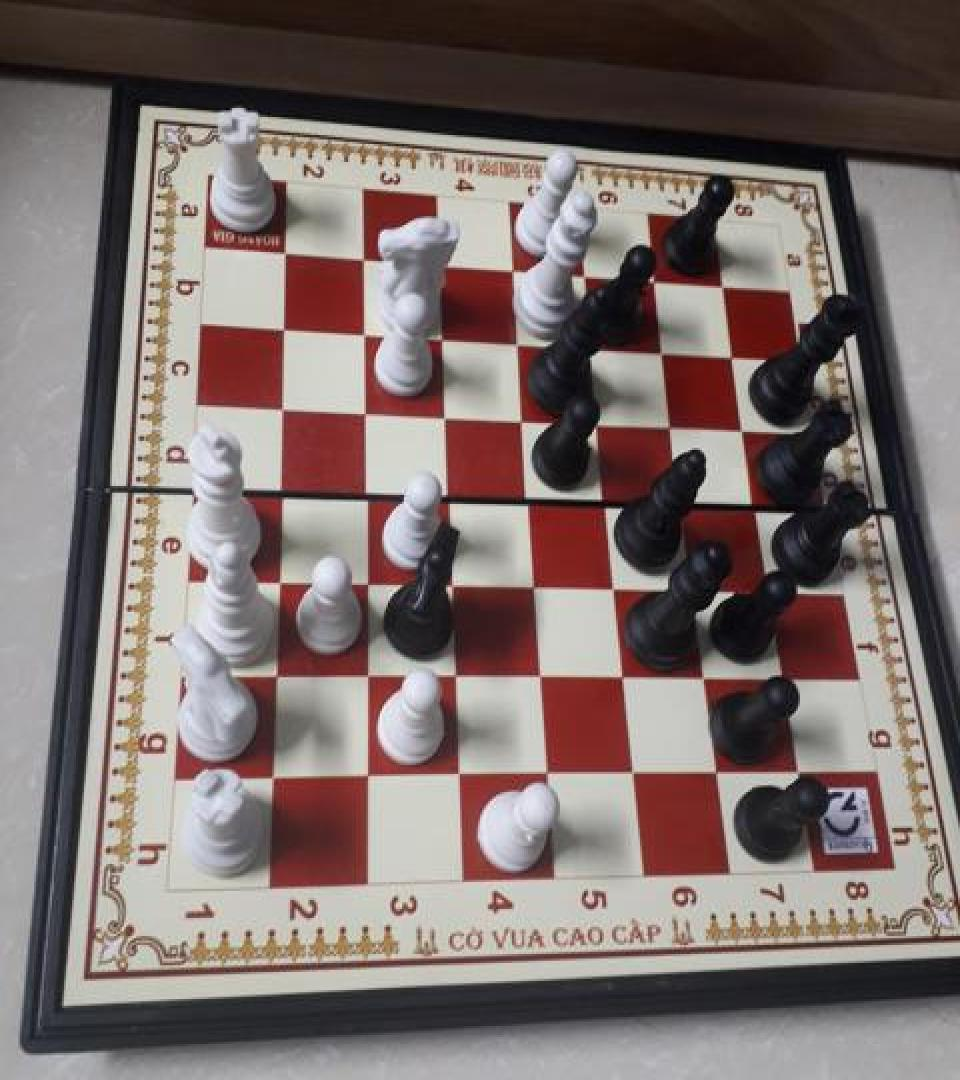xcorner: (709, 271, 739, 305), (640, 266, 670, 300), (569, 260, 599, 294), (497, 254, 527, 288), (422, 248, 452, 282), (346, 242, 376, 276), (267, 235, 297, 269), (719, 341, 749, 375), (649, 336, 679, 370), (576, 332, 606, 366), (502, 326, 532, 360), (425, 320, 455, 354), (346, 316, 376, 350), (730, 415, 760, 449), (658, 410, 688, 444), (583, 407, 613, 441), (428, 398, 458, 432), (347, 394, 377, 428), (264, 389, 294, 423), (668, 489, 698, 523), (591, 487, 621, 521), (513, 484, 543, 518), (432, 480, 462, 514), (348, 477, 378, 511), (262, 474, 292, 508), (754, 575, 784, 609), (678, 572, 708, 606), (599, 572, 629, 606), (518, 569, 548, 603), (435, 567, 465, 601), (261, 562, 291, 596), (767, 662, 797, 696), (689, 662, 719, 696), (608, 662, 638, 696), (525, 660, 555, 694), (439, 659, 469, 693), (350, 659, 380, 693), (259, 658, 289, 692), (781, 755, 811, 789), (701, 756, 731, 790), (617, 756, 647, 790), (532, 757, 562, 791), (443, 758, 473, 792), (351, 759, 381, 793), (257, 760, 287, 794), (266, 311, 296, 344), (507, 403, 537, 436), (742, 493, 772, 526), (349, 565, 379, 598)
